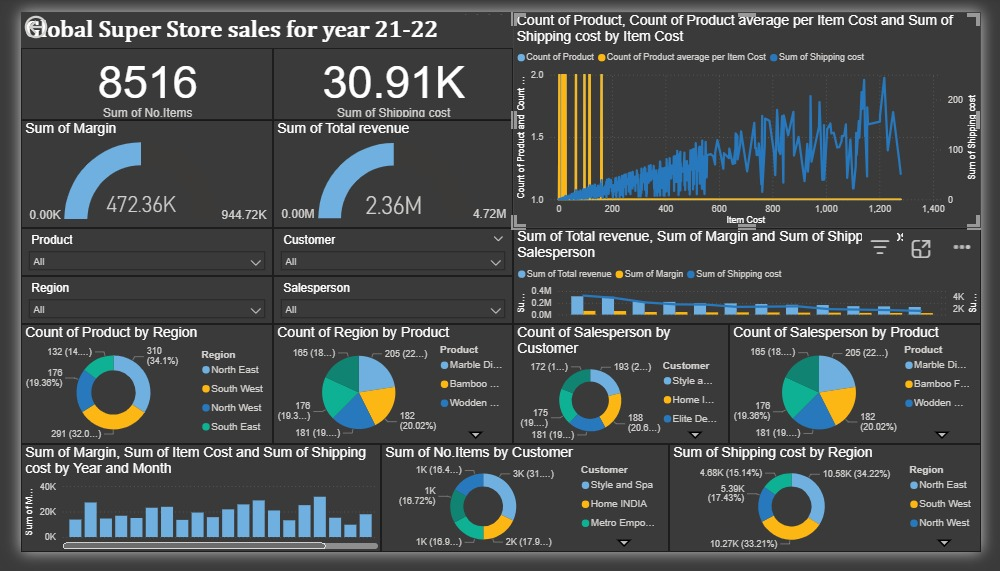

This screenshot's page, from the dashboard's own definition file:
{"tool":"powerbi","page":{"name":"Page 1","canvas":[1280,720],"ordinal":0},"visuals":[{"type":"textbox","box":[0,0,592,48],"z":0},{"type":"clusteredColumnChart","fields":{"Y":["Sum(Raw_Data.Margin)"],"Category":["Raw_Data.Date.Variation.Date Hierarchy.Year","Raw_Data.Date.Variation.Date Hierarchy.Month"]},"box":[0,576,480,144],"z":1000},{"type":"donutChart","fields":{"Category":["Raw_Data.Customer"],"Y":["Sum(Raw_Data.No.Items)"]},"box":[480,576,384,144],"z":2000},{"type":"donutChart","fields":{"Category":["Raw_Data.Region"],"Y":["Sum(Raw_Data.Shipping cost)"]},"box":[864,576,416,144],"z":3000},{"type":"pieChart","fields":{"Category":["Raw_Data.Product"],"Y":["CountNonNull(Raw_Data.Region)"]},"box":[336,416,320,160],"z":4000},{"type":"donutChart","fields":{"Category":["Raw_Data.Region"],"Y":["CountNonNull(Raw_Data.Product)"]},"box":[0,416,336,160],"z":5000},{"type":"donutChart","fields":{"Category":["Raw_Data.Customer"],"Y":["CountNonNull(Raw_Data.Salesperson)"]},"box":[656,416,288,160],"z":6000},{"type":"pieChart","fields":{"Y":["CountNonNull(Raw_Data.Salesperson)"],"Category":["Raw_Data.Product"]},"box":[944,416,336,160],"z":7000},{"type":"slicer","fields":{"Values":["Raw_Data.Region"]},"box":[0,352,336,64],"z":8000},{"type":"slicer","fields":{"Values":["Raw_Data.Salesperson"]},"box":[336,352,320,64],"z":9000},{"type":"slicer","fields":{"Values":["Raw_Data.Product"]},"box":[0,288,336,64],"z":10000},{"type":"slicer","fields":{"Values":["Raw_Data.Customer"]},"box":[336,288,320,64],"z":11000},{"type":"actionButton","box":[0,0,100,40],"z":12000},{"type":"lineClusteredColumnComboChart","fields":{"Category":["Raw_Data.Salesperson"],"Y":["Sum(Raw_Data.Total revenue)","Sum(Raw_Data.Margin)"],"Y2":["Sum(Raw_Data.Shipping cost)"]},"box":[656,288,624,128],"z":13000},{"type":"gauge","fields":{"Y":["Sum(Raw_Data.Margin)"]},"box":[0,144,336,144],"z":14000},{"type":"gauge","fields":{"Y":["Sum(Raw_Data.Total revenue)"]},"box":[336,144,320,144],"z":15000},{"type":"card","fields":{"Values":["Sum(Raw_Data.No.Items)"]},"box":[0,48,336,96],"z":16000},{"type":"card","fields":{"Values":["Sum(Raw_Data.Shipping cost)"]},"box":[336,48,320,96],"z":17000},{"type":"lineChart","fields":{"Category":["Raw_Data.Item Cost"],"Y2":["Sum(Raw_Data.Shipping cost)"],"Y":["CountNonNull(Raw_Data.Product)","Raw_Data.Count of Product average per Item Cost"]},"box":[656,0,624,288],"z":18000}]}

Visuals, with their boxes in screenshot pixels (x1, y1, x2, y2), scaled from the page's 1280x720 canvas onto the 1000x571 screenshot:
textbox: left=0, top=0, right=462, bottom=38
clusteredColumnChart - Sum(Raw_Data.Margin) x Raw_Data.Date.Variation.Date Hierarchy.Year: left=0, top=457, right=375, bottom=570
donutChart - Raw_Data.Customer x Sum(Raw_Data.No.Items): left=375, top=457, right=675, bottom=570
donutChart - Raw_Data.Region x Sum(Raw_Data.Shipping cost): left=675, top=457, right=999, bottom=570
pieChart - Raw_Data.Product x CountNonNull(Raw_Data.Region): left=262, top=330, right=512, bottom=457
donutChart - Raw_Data.Region x CountNonNull(Raw_Data.Product): left=0, top=330, right=262, bottom=457
donutChart - Raw_Data.Customer x CountNonNull(Raw_Data.Salesperson): left=512, top=330, right=738, bottom=457
pieChart - CountNonNull(Raw_Data.Salesperson) x Raw_Data.Product: left=738, top=330, right=999, bottom=457
slicer - Raw_Data.Region: left=0, top=279, right=262, bottom=330
slicer - Raw_Data.Salesperson: left=262, top=279, right=512, bottom=330
slicer - Raw_Data.Product: left=0, top=228, right=262, bottom=279
slicer - Raw_Data.Customer: left=262, top=228, right=512, bottom=279
actionButton: left=0, top=0, right=78, bottom=32
lineClusteredColumnComboChart - Raw_Data.Salesperson x Sum(Raw_Data.Total revenue): left=512, top=228, right=999, bottom=330
gauge - Sum(Raw_Data.Margin): left=0, top=114, right=262, bottom=228
gauge - Sum(Raw_Data.Total revenue): left=262, top=114, right=512, bottom=228
card - Sum(Raw_Data.No.Items): left=0, top=38, right=262, bottom=114
card - Sum(Raw_Data.Shipping cost): left=262, top=38, right=512, bottom=114
lineChart - Raw_Data.Item Cost x Sum(Raw_Data.Shipping cost): left=512, top=0, right=999, bottom=228
